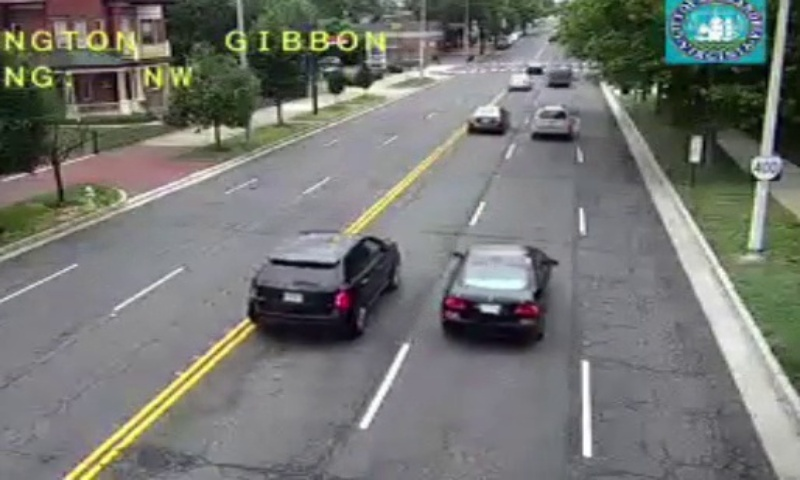car: (245, 231, 398, 327), (440, 244, 549, 337), (532, 105, 571, 135), (468, 105, 505, 131)
